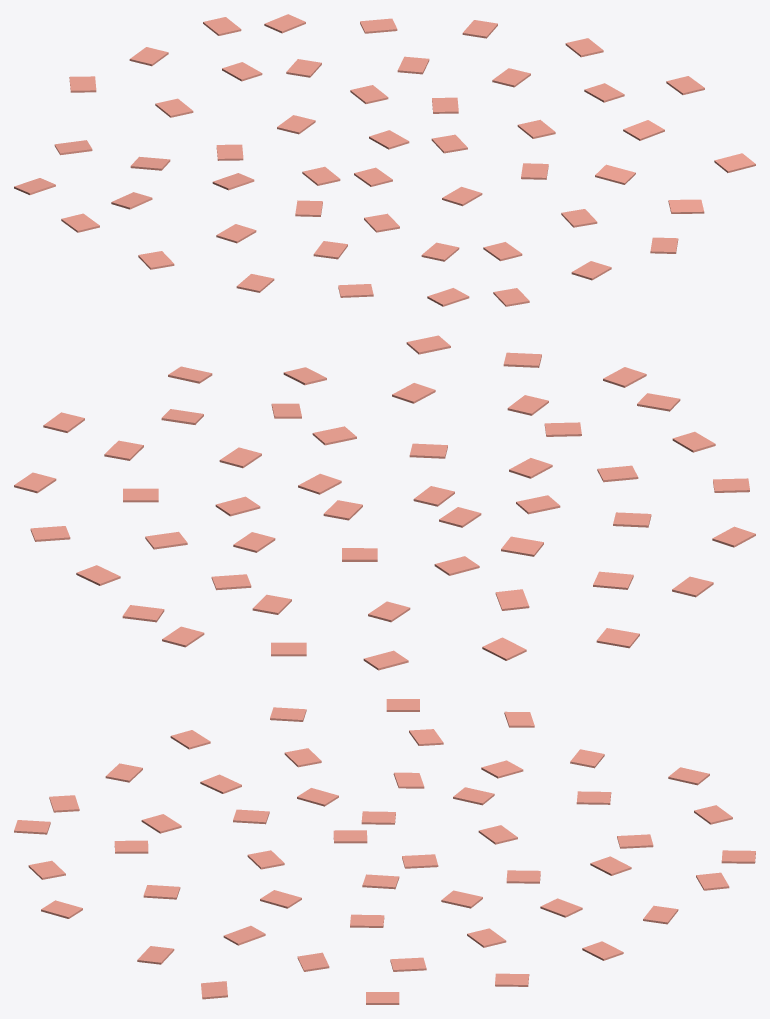
The model's file is ham.glb.
3 renders of one model, top to bottom at view 1: azimuth 30°, elevation 25°; view 2: azimuth 150°, elevation 25°; view 3: azimuth 270°, elevation 25°, orthographic. The views are drawn at different scales.
Parts seen in each view (by area): view 1: polySurface111; view 2: polySurface111; view 3: polySurface111.
Part boxes in pixels (left/top/right/bottom): polySurface111: left=14, top=14, right=755, bottom=306; polySurface111: left=14, top=335, right=755, bottom=670; polySurface111: left=14, top=699, right=755, bottom=1004.
Bounding box in the file's own units: 0.3383 × 0.00913 × 0.349.
